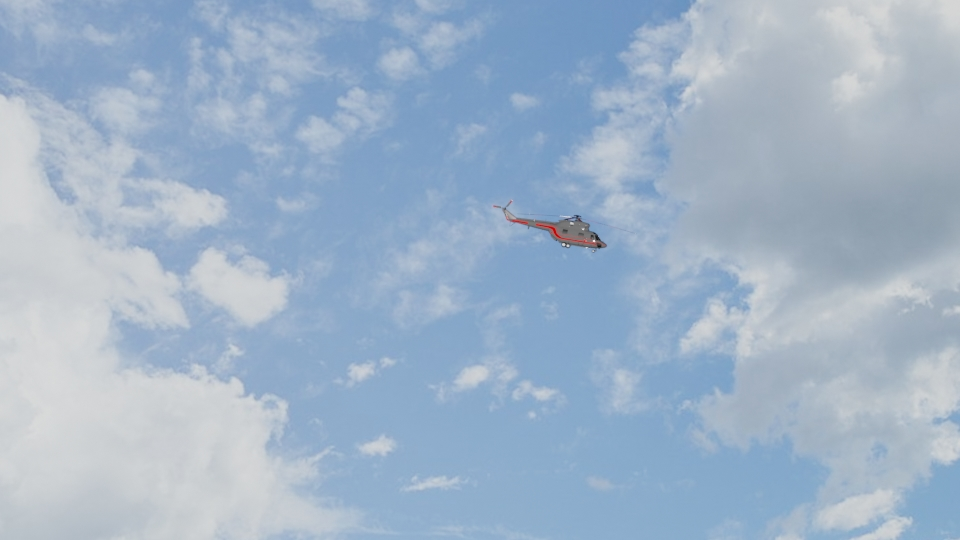heli: (493, 197, 613, 254)
